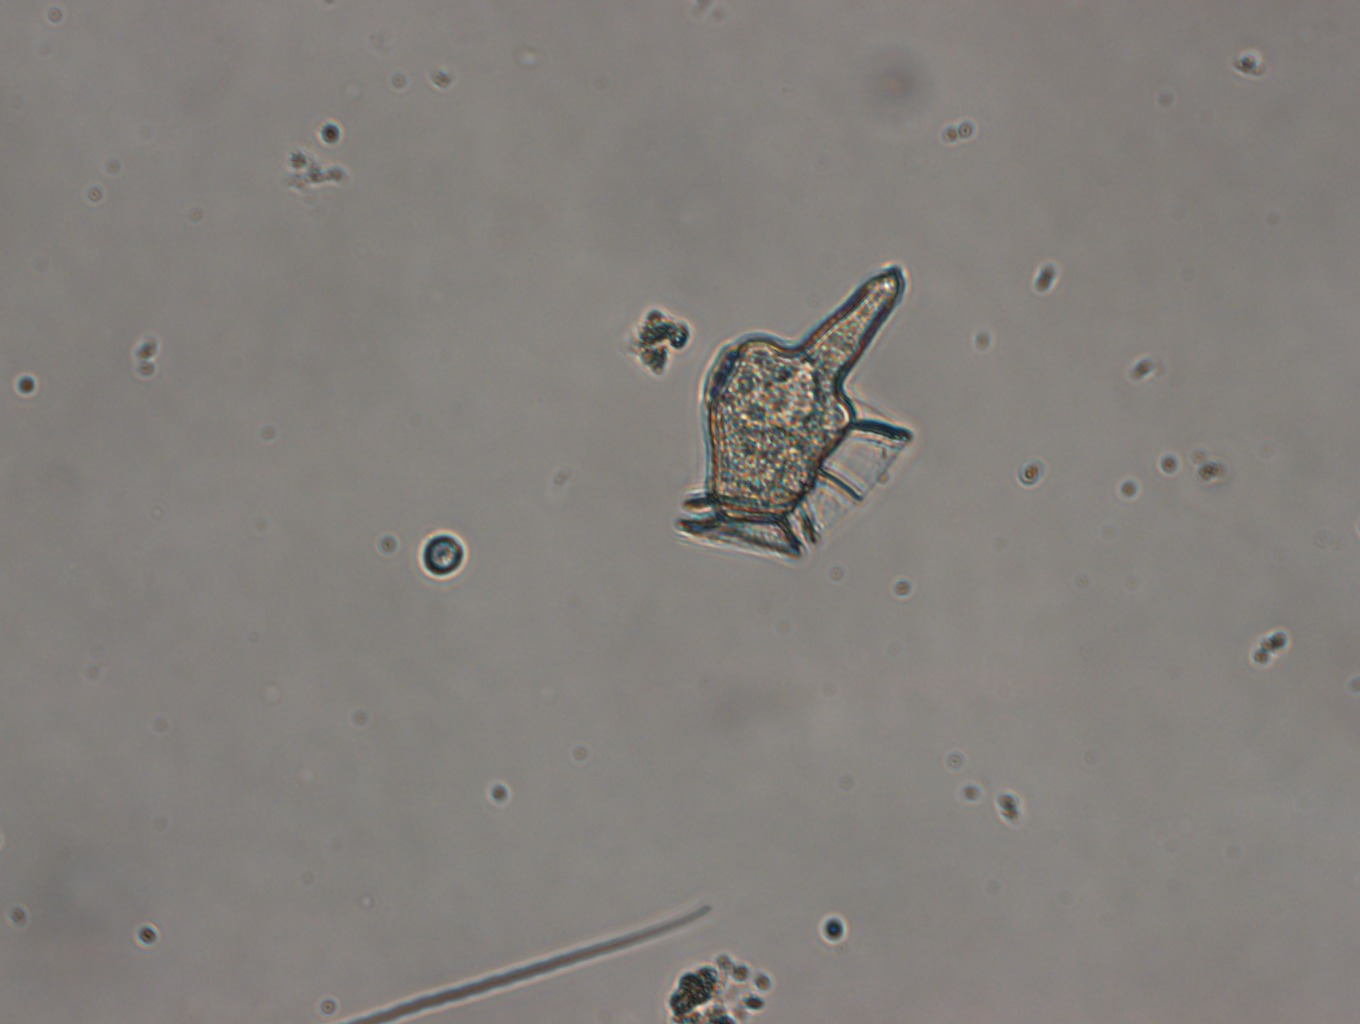dinophysis caudata: (669, 256, 918, 569)
